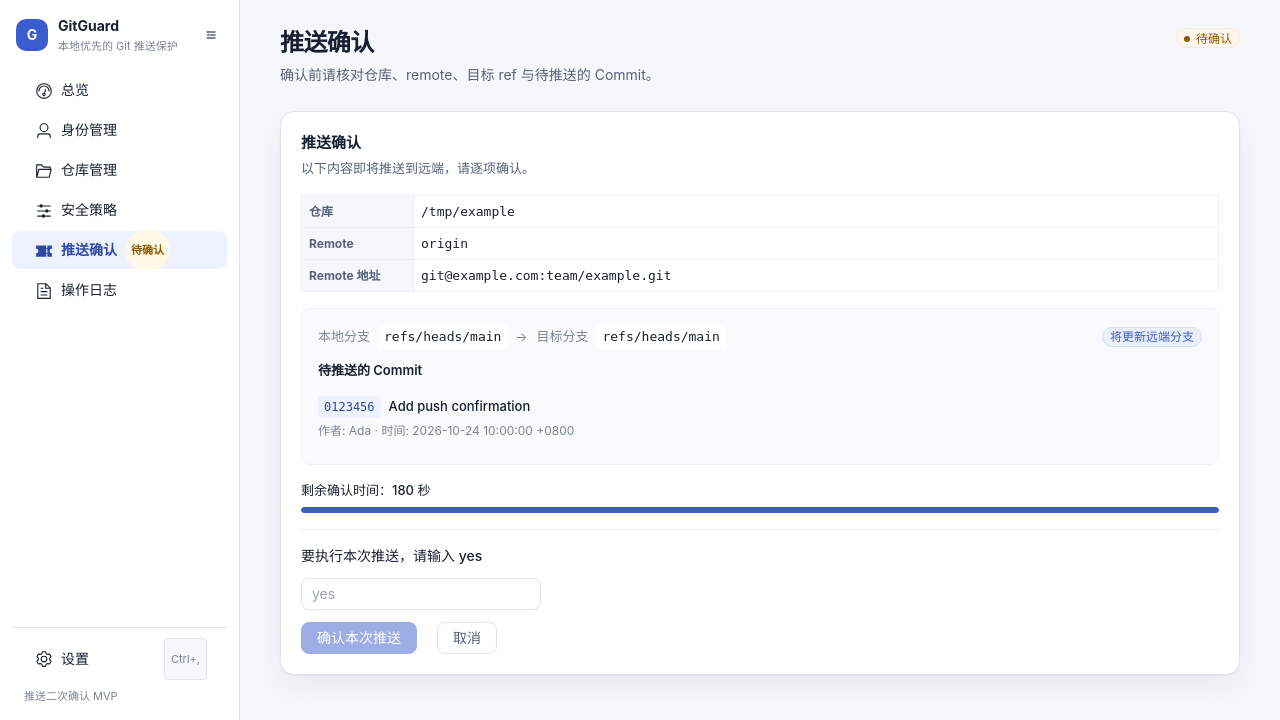
Test: App › keeps a banner while a pending push is waiting on another page
The width and height of the screenshot is (1280, 720).
Click the menu item "仓库管理" at (76,170), box [35, 160, 117, 180]
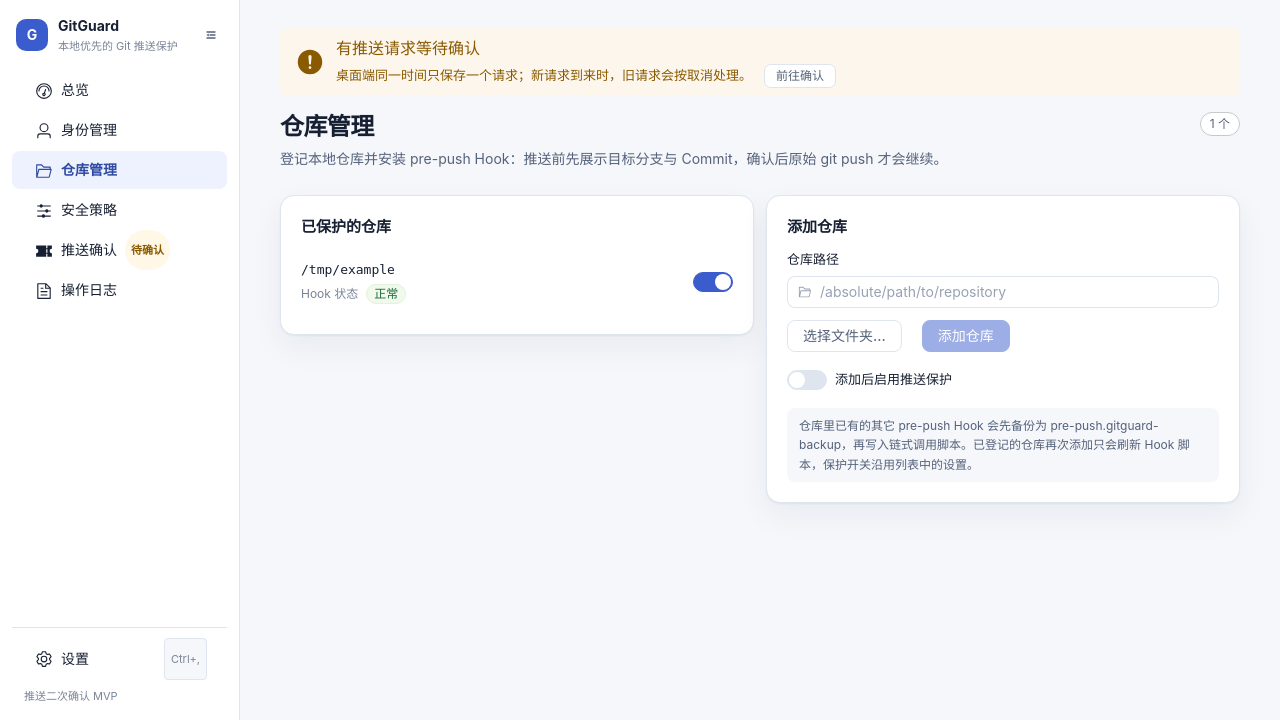
Check: the message "有推送请求等待确认 桌面端同一时间只保存一个请求；新请求到来时，旧请求会按取消处理。 前往确认" is shown, box [280, 28, 1240, 96]
Click the button "前往确认" at (800,76), box [764, 64, 836, 88]
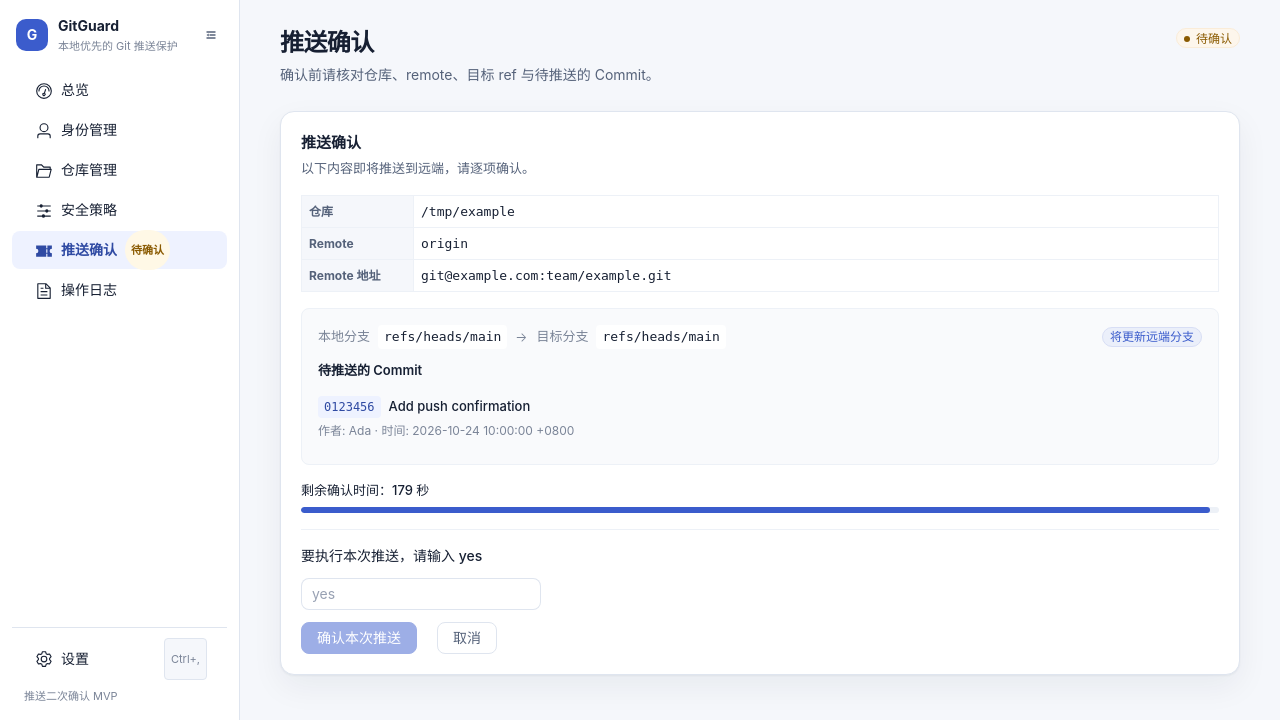
Check: the heading with id "approval-title" reads "推送确认", box [280, 28, 374, 57]
